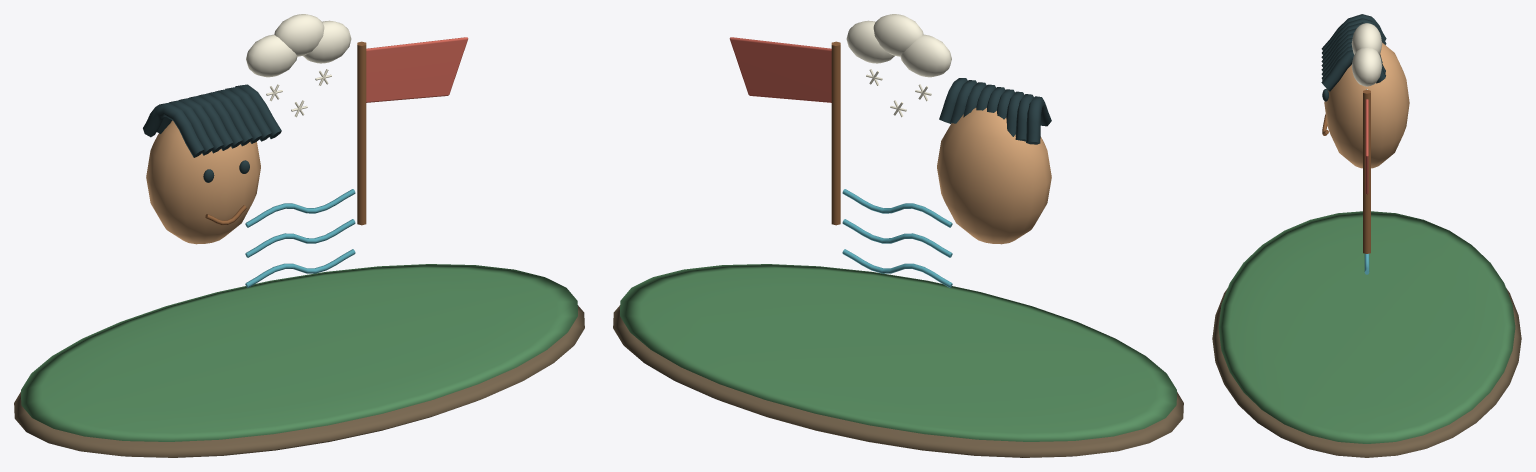
The model's file is complete-second-feeling-cold.glb.
3 renders of one model, left to right at view 1: azimuth 30°, elevation 25°; view 2: azimuth 150°, elevation 25°; view 3: azimuth 270°, elevation 25°, orthographic. The views are drawn at different scales.
Visible parts, largest first — view 1: complete-second-feeling-cold_surface_01, complete-second-feeling-cold_surface_00, complete-second-feeling-cold_surface_02, complete-second-feeling-cold_surface_03, complete-second-feeling-cold_surface_05, complete-second-feeling-cold_surface_07, complete-second-feeling-cold_surface_06, complete-second-feeling-cold_surface_04; view 2: complete-second-feeling-cold_surface_01, complete-second-feeling-cold_surface_02, complete-second-feeling-cold_surface_00, complete-second-feeling-cold_surface_05, complete-second-feeling-cold_surface_07, complete-second-feeling-cold_surface_03, complete-second-feeling-cold_surface_06, complete-second-feeling-cold_surface_04; view 3: complete-second-feeling-cold_surface_01, complete-second-feeling-cold_surface_02, complete-second-feeling-cold_surface_00, complete-second-feeling-cold_surface_03, complete-second-feeling-cold_surface_07, complete-second-feeling-cold_surface_04, complete-second-feeling-cold_surface_05.
Part boxes in pixels (x1,y1,x2,y2): complete-second-feeling-cold_surface_01: [21, 264, 577, 441]; complete-second-feeling-cold_surface_00: [14, 305, 584, 457]; complete-second-feeling-cold_surface_02: [146, 120, 260, 244]; complete-second-feeling-cold_surface_03: [143, 84, 281, 182]; complete-second-feeling-cold_surface_05: [366, 37, 468, 102]; complete-second-feeling-cold_surface_07: [246, 14, 351, 117]; complete-second-feeling-cold_surface_06: [245, 189, 355, 287]; complete-second-feeling-cold_surface_04: [205, 41, 366, 225]; complete-second-feeling-cold_surface_01: [620, 264, 1176, 441]; complete-second-feeling-cold_surface_02: [937, 108, 1051, 244]; complete-second-feeling-cold_surface_00: [613, 305, 1183, 457]; complete-second-feeling-cold_surface_05: [729, 37, 831, 102]; complete-second-feeling-cold_surface_07: [846, 14, 951, 117]; complete-second-feeling-cold_surface_03: [939, 78, 1051, 144]; complete-second-feeling-cold_surface_06: [842, 189, 952, 287]; complete-second-feeling-cold_surface_04: [831, 41, 840, 225]; complete-second-feeling-cold_surface_01: [1218, 211, 1515, 443]; complete-second-feeling-cold_surface_02: [1324, 42, 1409, 168]; complete-second-feeling-cold_surface_00: [1212, 288, 1521, 457]; complete-second-feeling-cold_surface_03: [1321, 14, 1386, 101]; complete-second-feeling-cold_surface_07: [1351, 23, 1382, 89]; complete-second-feeling-cold_surface_04: [1322, 90, 1370, 253]; complete-second-feeling-cold_surface_05: [1365, 99, 1368, 194].
Size of the model in its own units: 4.56 by 2.92 by 2.5.
